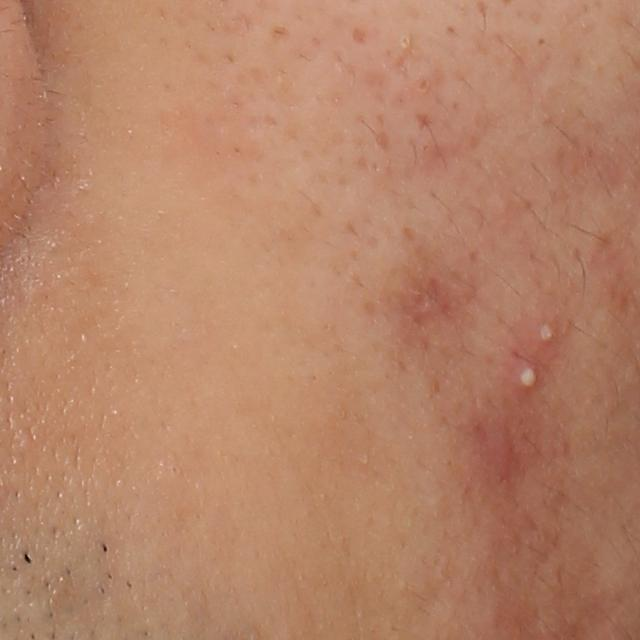pustule: (506, 350, 548, 394), (527, 312, 562, 349)
